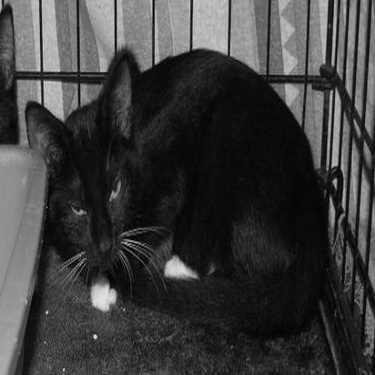cat: (23, 43, 320, 340)
